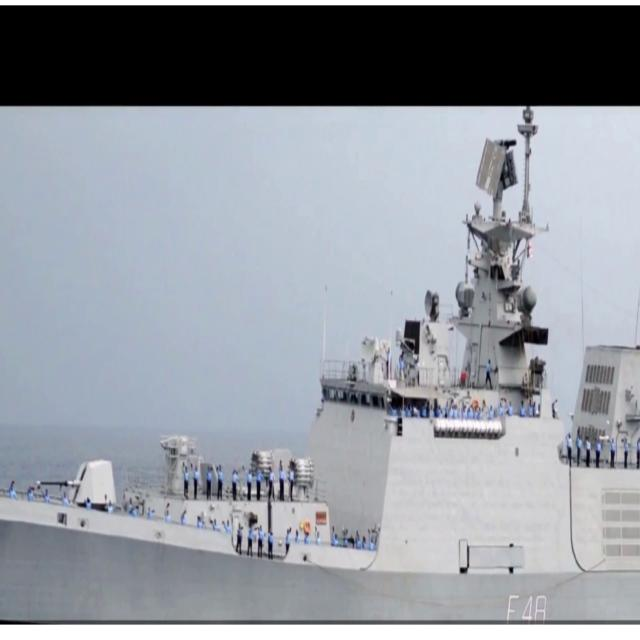OCR: (499, 588, 551, 625)
